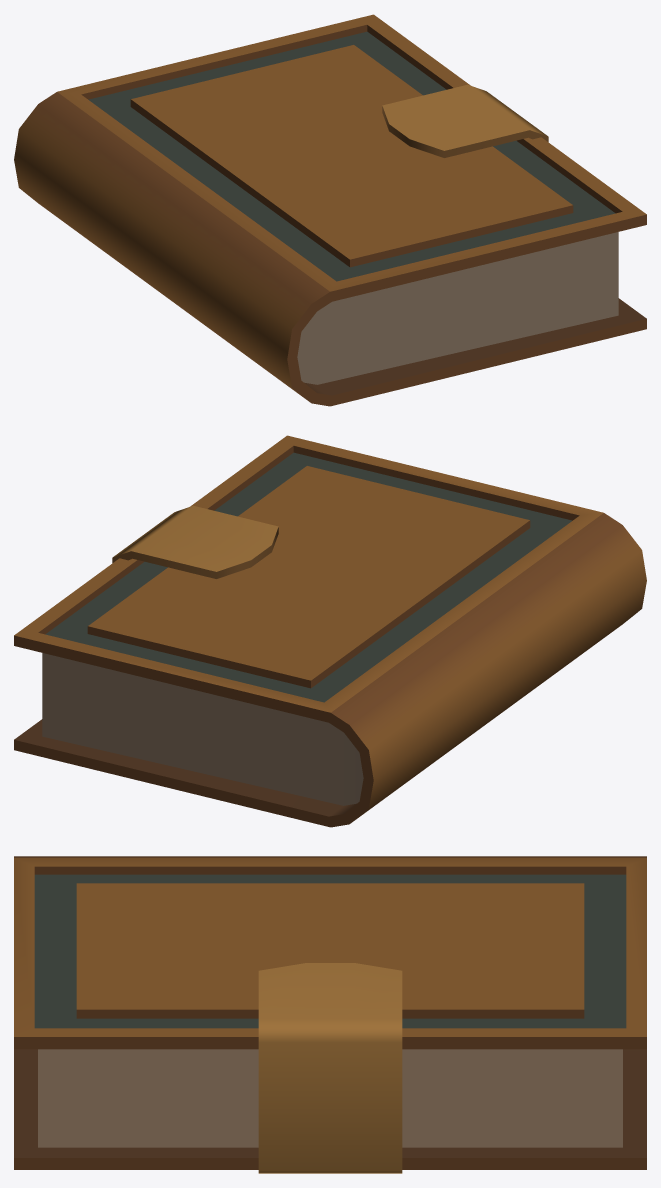
The model's file is human-household-items-book_v10.glb.
The picture shows the model from 3 angles, top to bottom: view 1: azimuth 30°, elevation 25°; view 2: azimuth 150°, elevation 25°; view 3: azimuth 270°, elevation 25°; orthographic projection. The views are drawn at different scales.
Visible parts, largest first — view 1: Book_v10; view 2: Book_v10; view 3: Book_v10.
Boxes of the visible parts, left/top/right/bottom form: Book_v10: left=14, top=14, right=646, bottom=406; Book_v10: left=14, top=435, right=646, bottom=827; Book_v10: left=14, top=856, right=646, bottom=1173.
Bounding box in the file's own units: 0.1939 × 0.0674 × 0.25.
